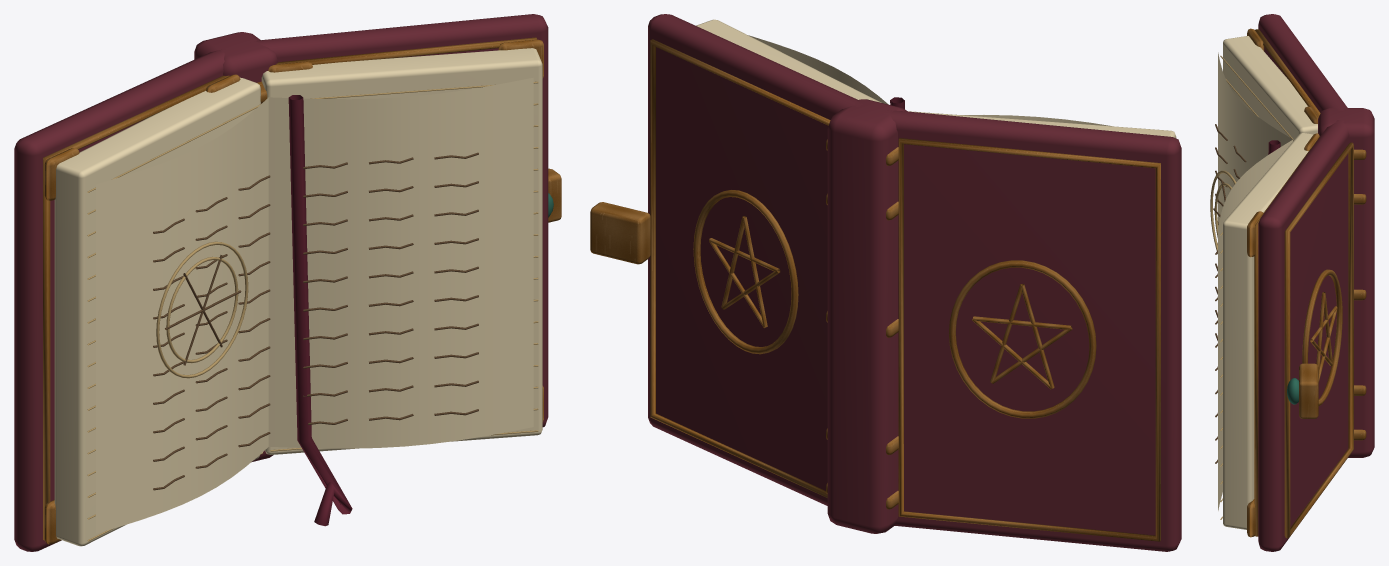
Rendered from bewitched-spellbook-v002.glb.
3 views of the same model, side by side, from view 1: azimuth 30°, elevation 25°; view 2: azimuth 150°, elevation 25°; view 3: azimuth 270°, elevation 25° (orthographic). The views are drawn at different scales.
Visible parts, largest first — view 1: pageWing.R-forged-geometry, pageWing.L-forged-geometry, cover.L-forged-geometry, cover.R-forged-geometry, body-forged-geometry; view 2: cover.L-forged-geometry, cover.R-forged-geometry, body-forged-geometry, pageWing.R-forged-geometry, pageWing.L-forged-geometry; view 3: cover.R-forged-geometry, pageWing.R-forged-geometry, pageWing.L-forged-geometry, body-forged-geometry, cover.L-forged-geometry.
Part boxes in pixels (x1,y1,x2,y2): pageWing.R-forged-geometry: (261, 48, 542, 454); pageWing.L-forged-geometry: (54, 77, 270, 546); cover.L-forged-geometry: (14, 49, 240, 551); cover.R-forged-geometry: (255, 14, 548, 427); body-forged-geometry: (194, 32, 561, 526); cover.L-forged-geometry: (884, 110, 1181, 551); cover.R-forged-geometry: (648, 14, 863, 505); body-forged-geometry: (590, 97, 907, 533); pageWing.R-forged-geometry: (696, 19, 888, 104); pageWing.L-forged-geometry: (908, 111, 1176, 138); cover.R-forged-geometry: (1247, 120, 1353, 551); pageWing.R-forged-geometry: (1215, 133, 1313, 529); pageWing.L-forged-geometry: (1210, 36, 1317, 340); body-forged-geometry: (1268, 108, 1374, 457); cover.L-forged-geometry: (1247, 14, 1347, 123).
Bounding box in the file's own units: 0.7023 × 0.537 × 0.218.
8 materials, 1 textured.
